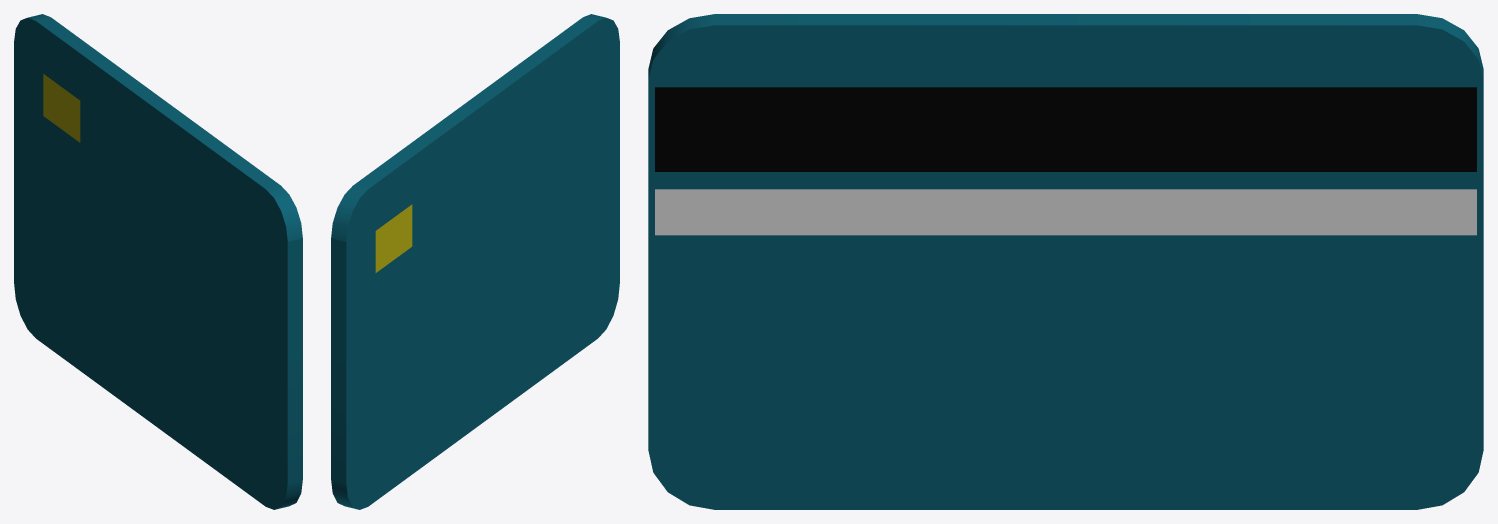
File: Keycard1.fbx
3 renders of one model, left to right at view 1: azimuth 30°, elevation 25°; view 2: azimuth 150°, elevation 25°; view 3: azimuth 270°, elevation 25°, orthographic. The views are drawn at different scales.
Parts seen in each view (by area): view 1: Card; view 2: Card; view 3: Card.
Part boxes in pixels (bbox=[...]): Card: bbox=[14, 14, 302, 509]; Card: bbox=[331, 14, 619, 509]; Card: bbox=[648, 14, 1483, 509].
Bounding box in the file's own units: 2 × 40 × 62.5.
